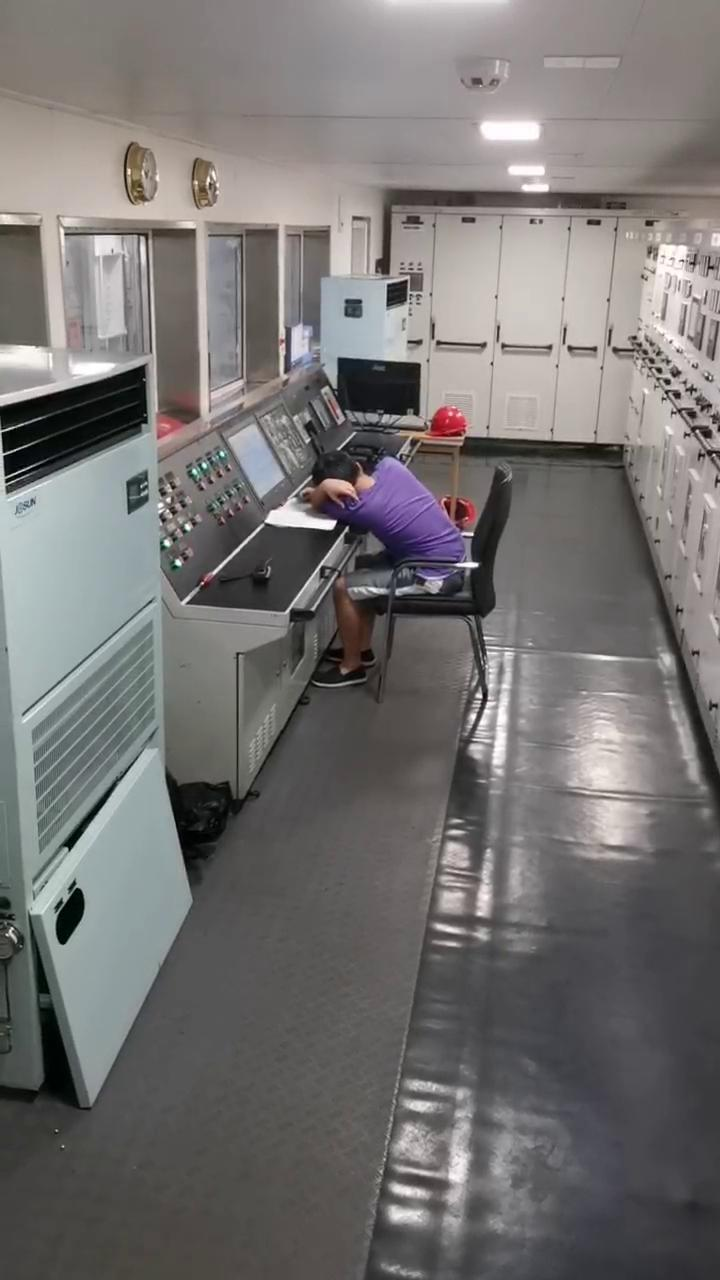sleep: (286, 449, 478, 606)
